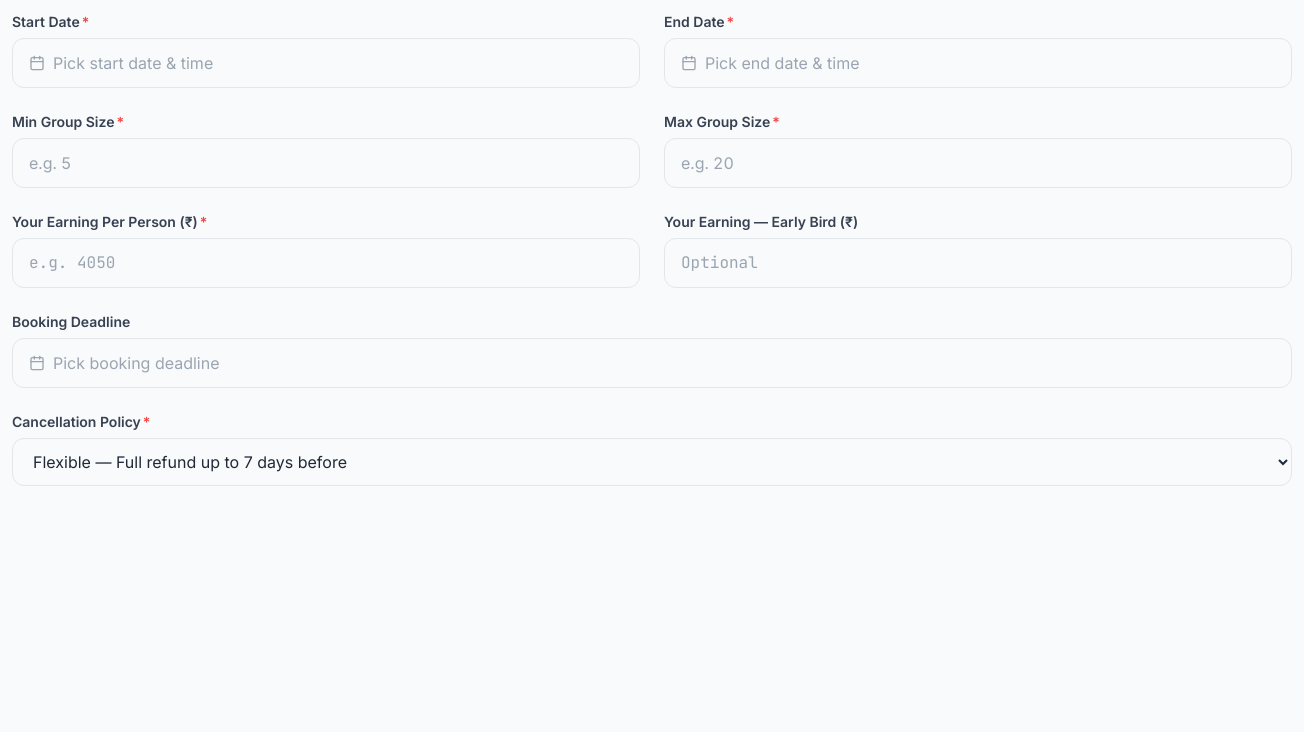
Test: DatesPricingTab — earning -> gross price conversion › computes and displays the live "traveller pays" preview from a typed net earning
Type "4000" into the field with placeholder "e.g. 4050" at point(326, 263), box left=12, top=238, right=640, bottom=288
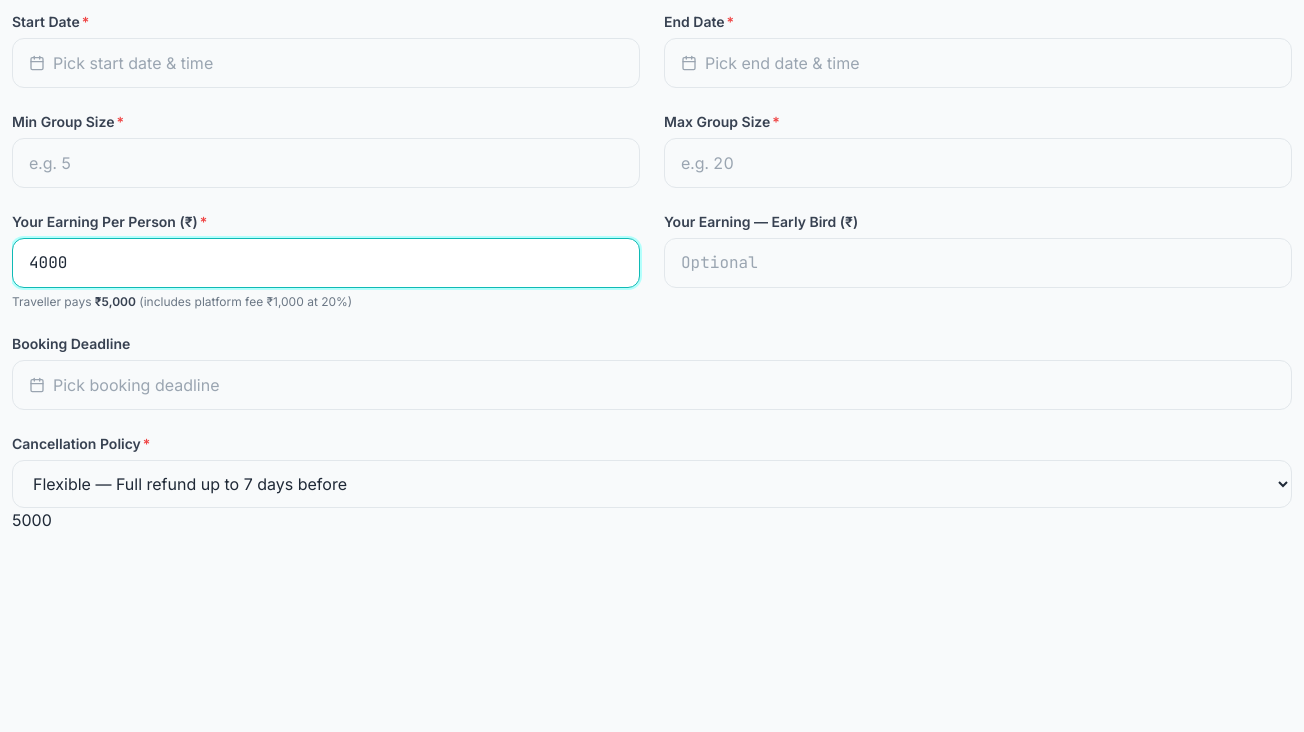
expect the element showing "Traveller pays ₹5,000 (includes platform fee ₹1,000 at 20%)" is shown: met, box left=12, top=294, right=352, bottom=309
